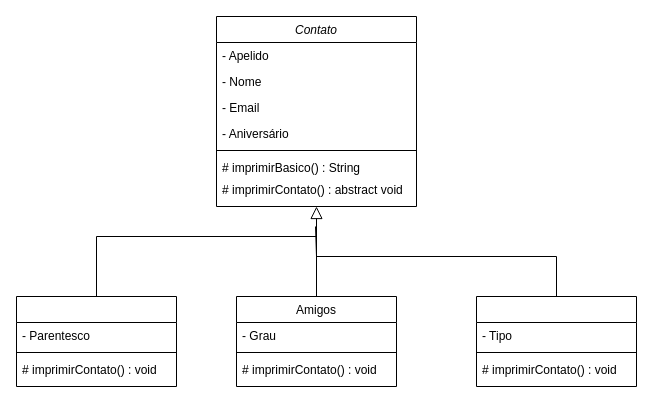
Some shapes in this 653 by 403 pixel diagram are drawn without their labels. The shapes that lost their labels are listed below. From the top down, each one's box as (x1, y1, x2, y2) in pixels, then its label:
(16, 296, 176, 386): Familia
(476, 296, 636, 386): Trabalho
